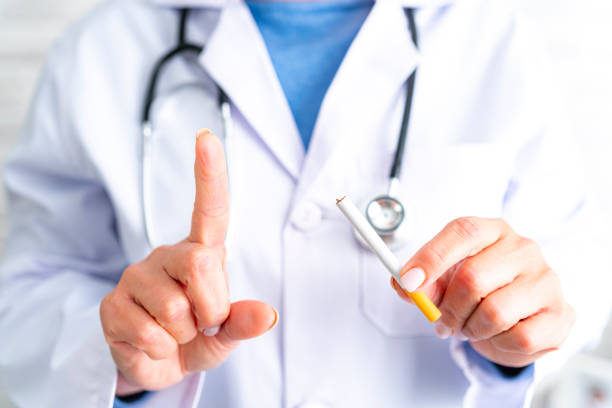cigarette: (333, 192, 444, 325)
